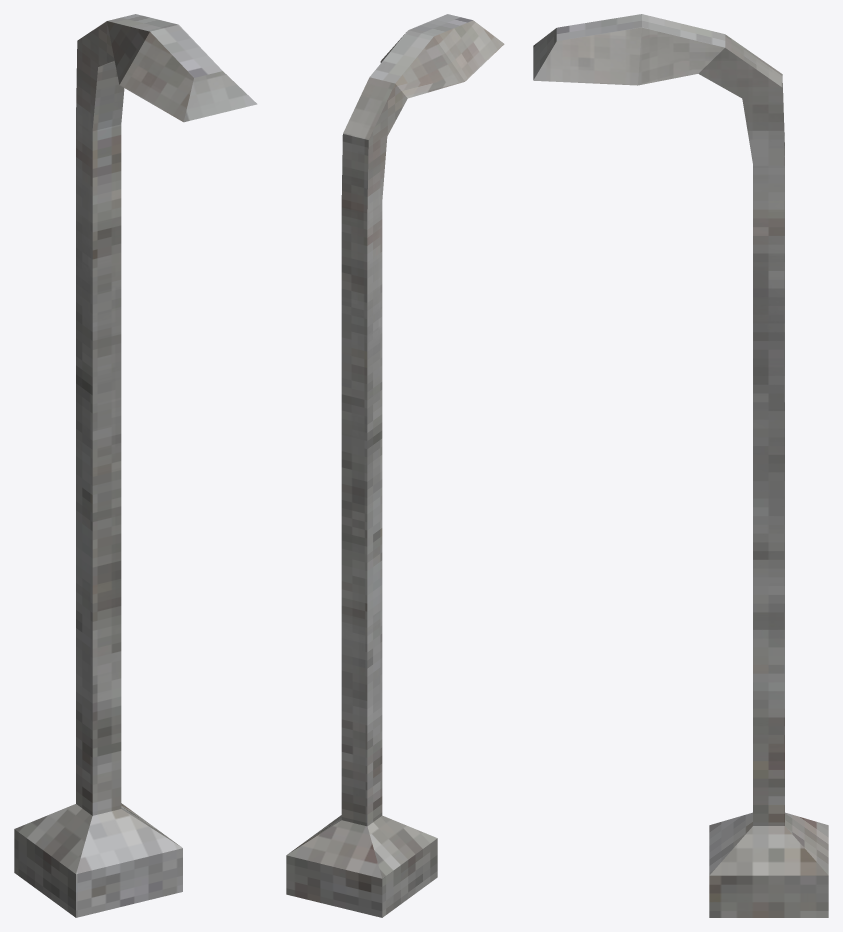
The model's file is street light.fbx.
3 views of the same model, side by side, from view 1: azimuth 30°, elevation 25°; view 2: azimuth 150°, elevation 25°; view 3: azimuth 270°, elevation 25° (orthographic). The views are drawn at different scales.
Visible parts, largest first — view 1: pCube10; view 2: pCube10; view 3: pCube10.
Part boxes in pixels (left/top/right/bottom): pCube10: left=14, top=14, right=257, bottom=917; pCube10: left=286, top=14, right=504, bottom=917; pCube10: left=533, top=14, right=828, bottom=917.
Size of the model in its own units: 49.23 by 397 by 122.
Materials: 1 (1 with a texture image).
